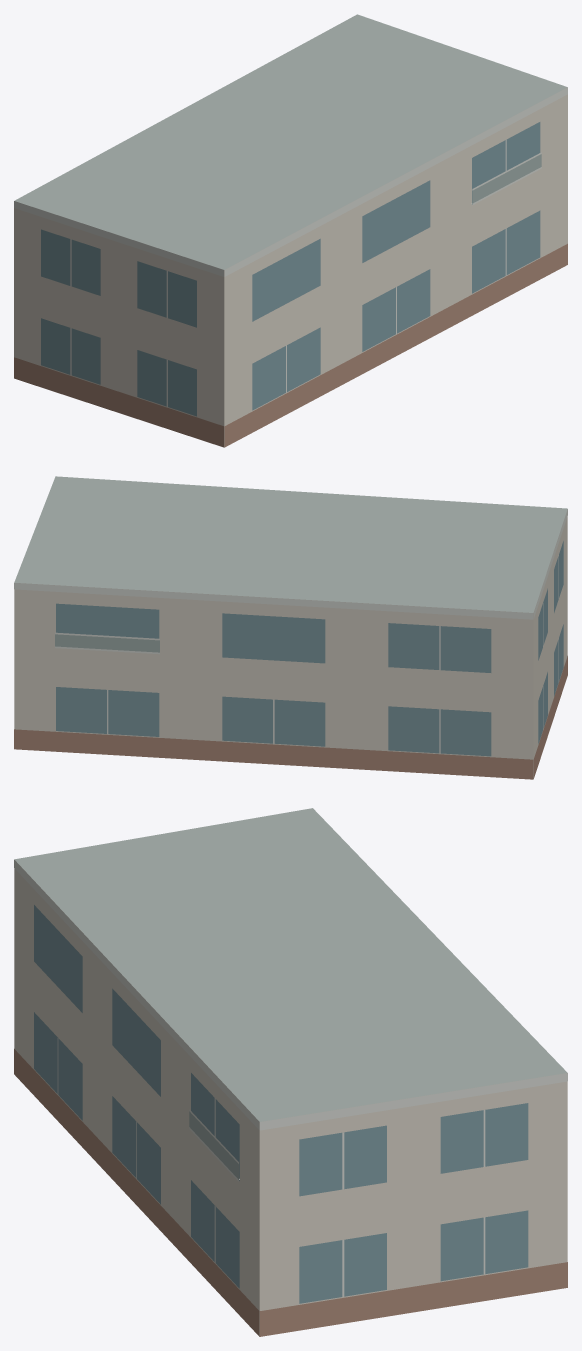
Rendered from survey-upis-32851562.glb.
3 renders of one model, top to bottom at view 1: azimuth 30°, elevation 25°; view 2: azimuth 150°, elevation 25°; view 3: azimuth 270°, elevation 25°, orthographic. The views are drawn at different scales.
Parts seen in each view (by area): view 1: survey-upis-32851562.tmp; view 2: survey-upis-32851562.tmp; view 3: survey-upis-32851562.tmp.
Part boxes in pixels (x1=…): survey-upis-32851562.tmp: x1=14, y1=14, x2=567, y2=447; survey-upis-32851562.tmp: x1=14, y1=476, x2=567, y2=779; survey-upis-32851562.tmp: x1=14, y1=808, x2=567, y2=1336.
Bounding box in the file's own units: 19.13 × 6.1 × 14.26.
